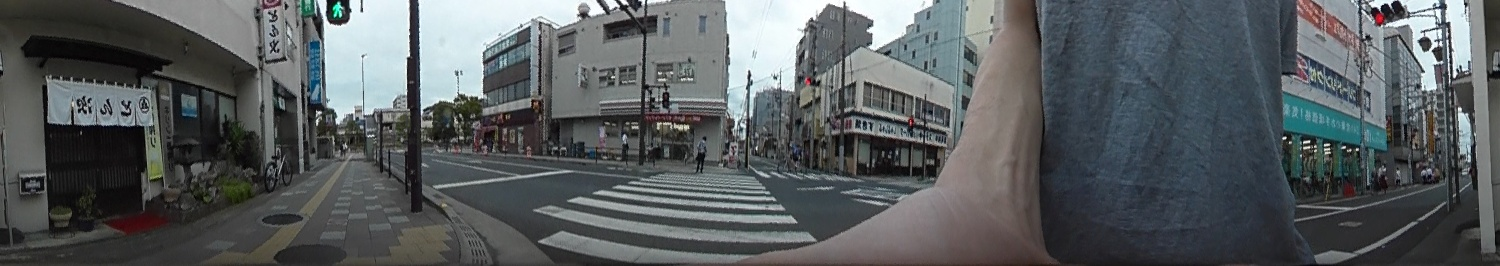difficult_person: (784, 139, 802, 167), (695, 134, 708, 172), (618, 130, 629, 163), (1376, 163, 1389, 190)
